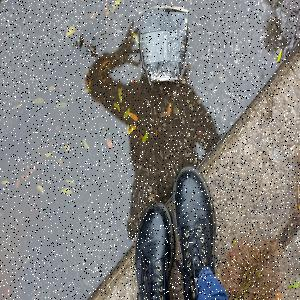Cup: (140, 6, 190, 84)
